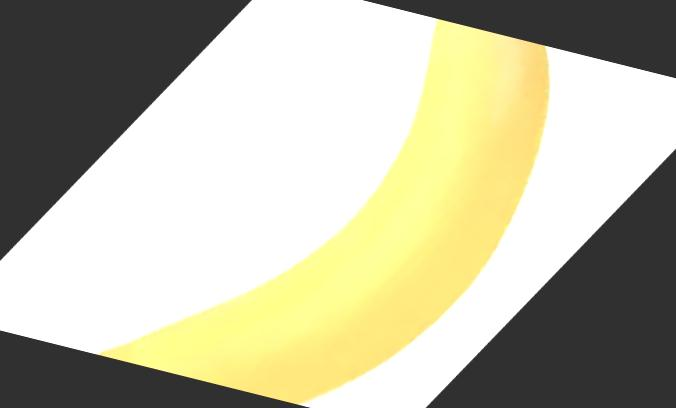Banana Ripe: (66, 0, 587, 408)
